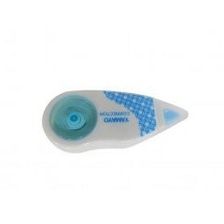correction_fluid: (41, 85, 191, 154)
